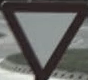Give way: (6, 6, 83, 77)
